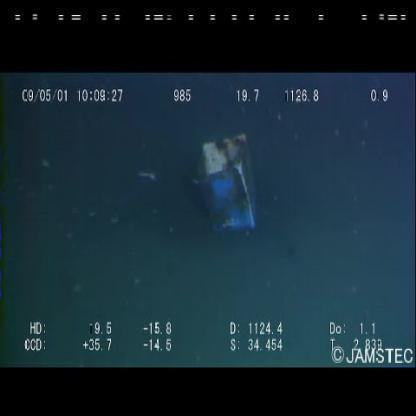Rác: (197, 132, 259, 233)
